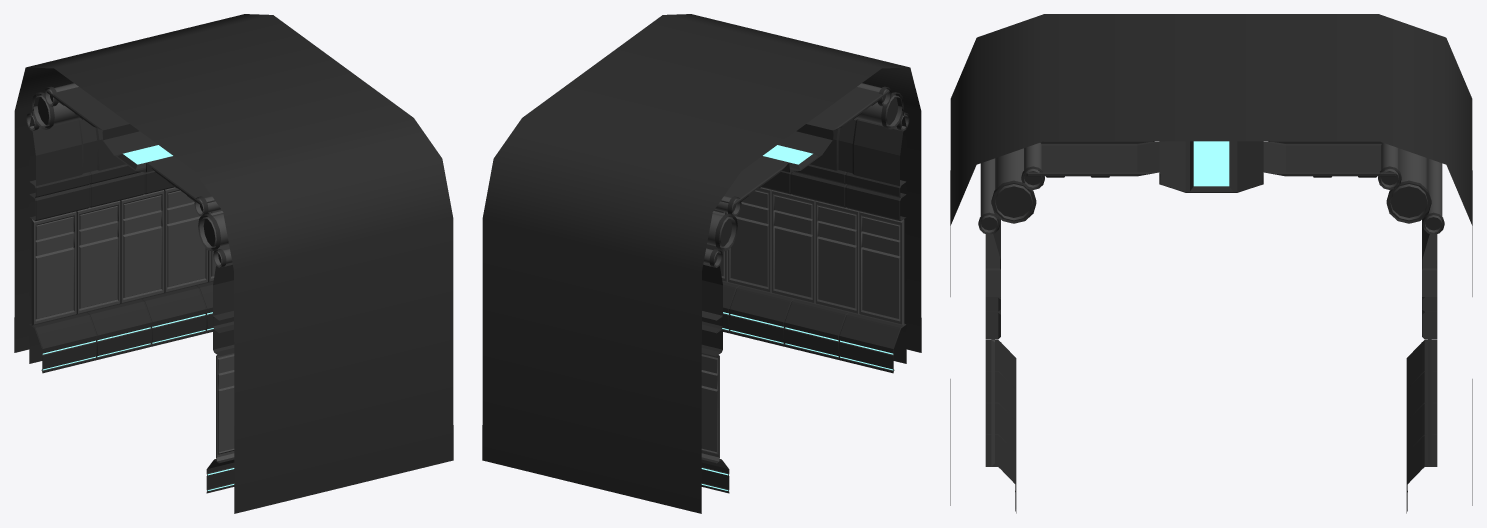
The model's file is wall02.fbx.
3 renders of one model, left to right at view 1: azimuth 30°, elevation 25°; view 2: azimuth 150°, elevation 25°; view 3: azimuth 270°, elevation 25°, orthographic. The views are drawn at different scales.
Visible parts, largest first — view 1: 对象061; view 2: 对象061; view 3: 对象061.
Boxes of the visible parts, x1,y1,x2,y2 form: 对象061: (14,14,453,513); 对象061: (482,14,921,513); 对象061: (950,14,1472,513).
Size of the model in its own units: 400 by 695 by 547.
